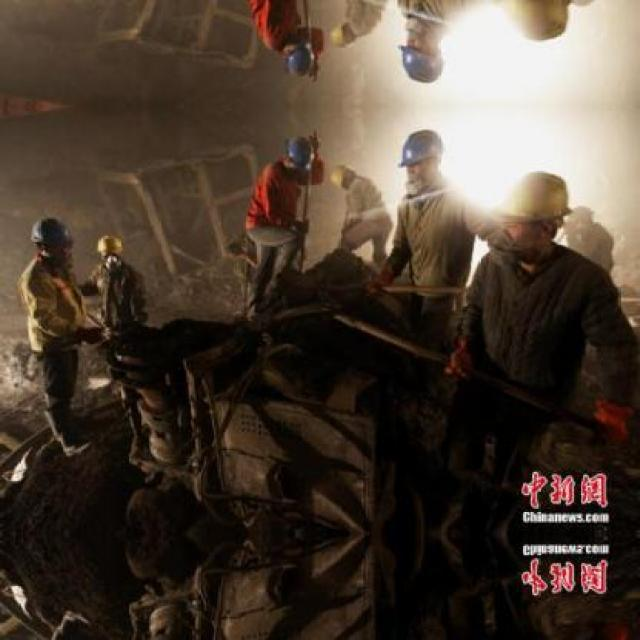Helmet: (484, 165, 578, 261), (483, 0, 578, 49), (394, 122, 455, 197), (394, 17, 455, 92), (30, 210, 78, 267), (283, 136, 315, 179), (283, 34, 315, 77), (92, 230, 125, 267), (328, 160, 362, 192), (328, 22, 362, 52)
